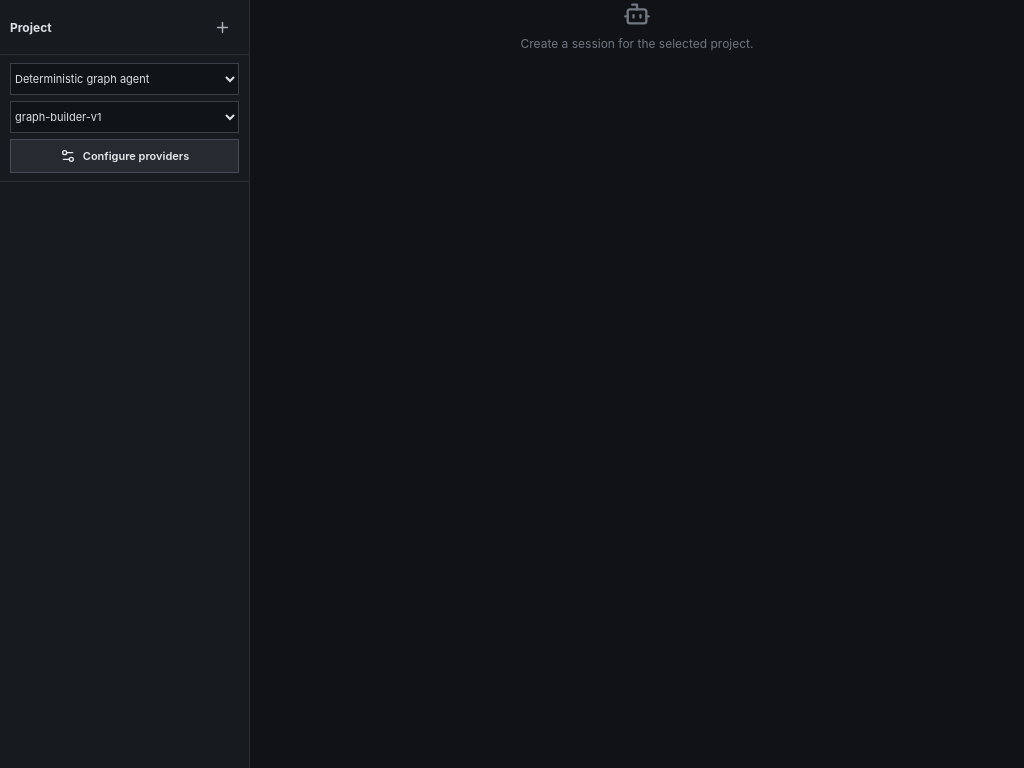
it: renames and deletes a selected session without touching the project
Click the button named "New agent session" at point(222, 27), box 205,10 -> 239,44
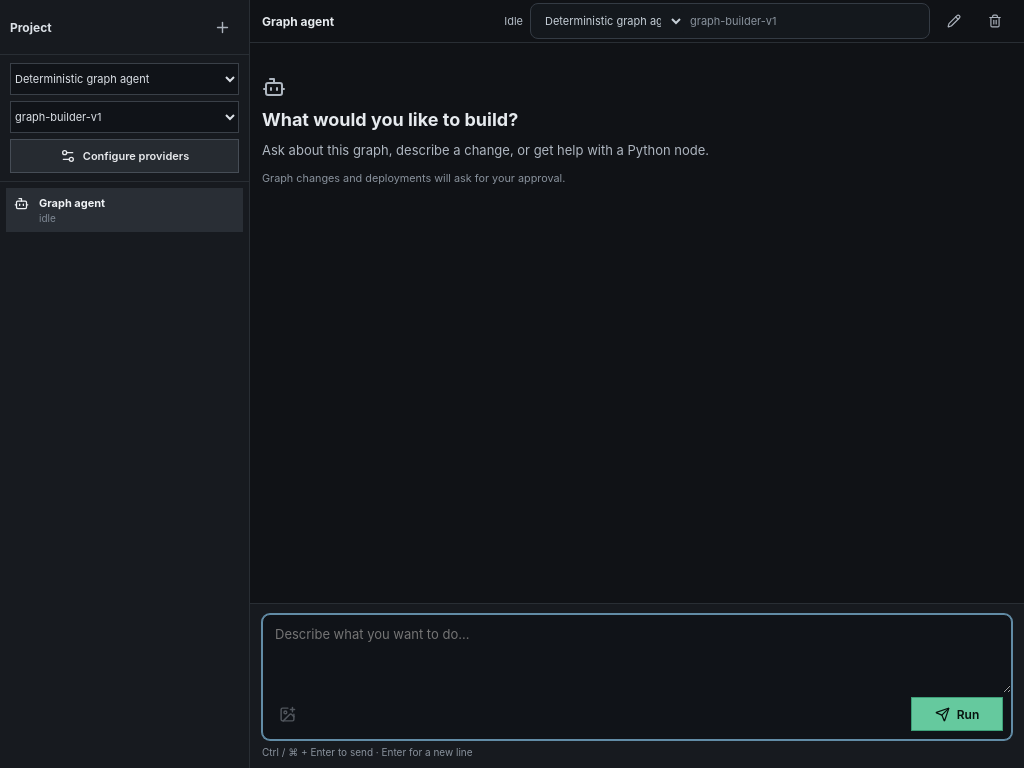
Click the button named "Rename session" at point(954, 21), box 937,4 -> 971,38
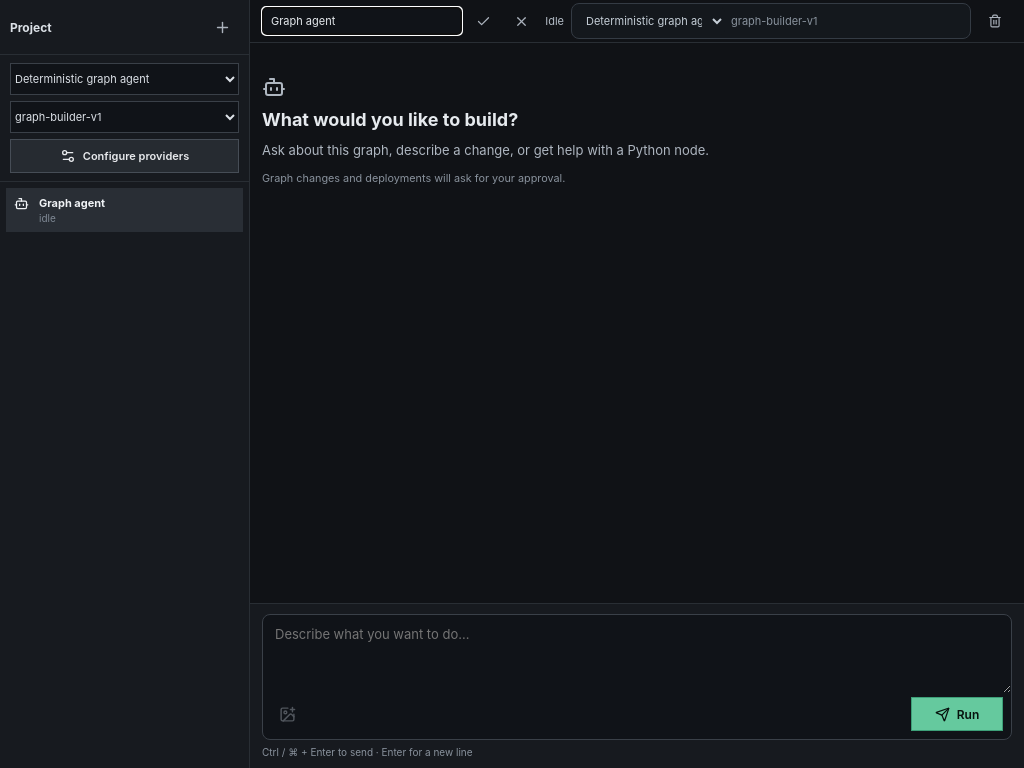
Replace the text in the field named "Session title" with "Cosine graph" at point(362, 21), box 262,7 -> 462,35
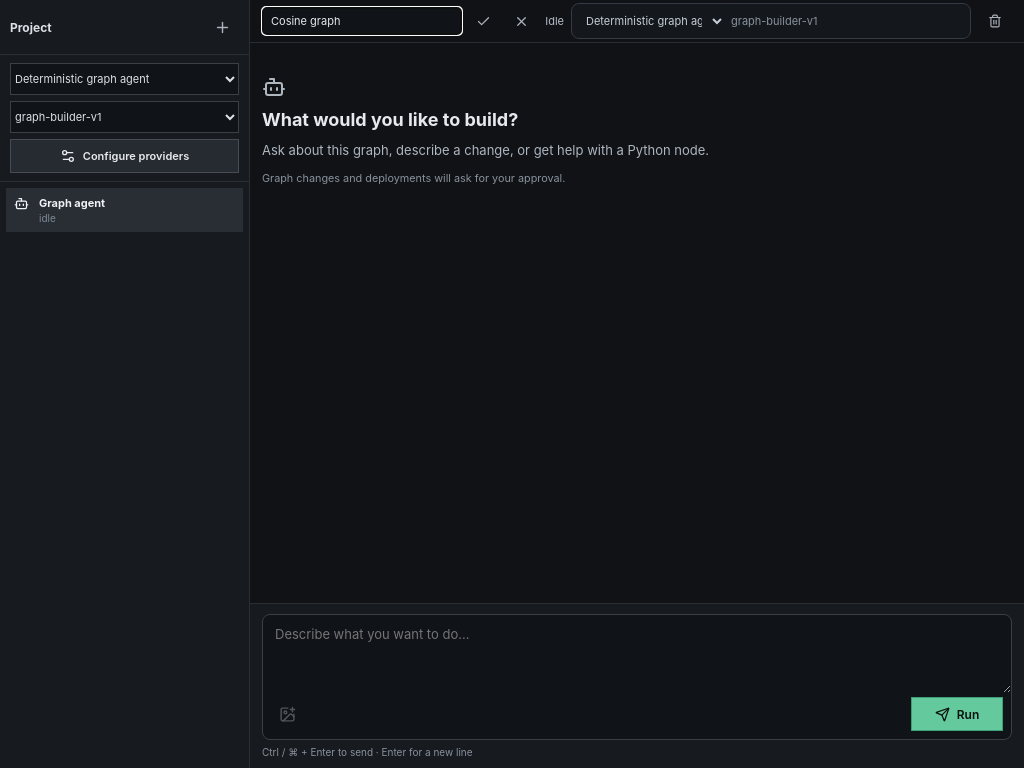
Click the button named "Save session title" at point(483, 21), box 466,4 -> 500,38
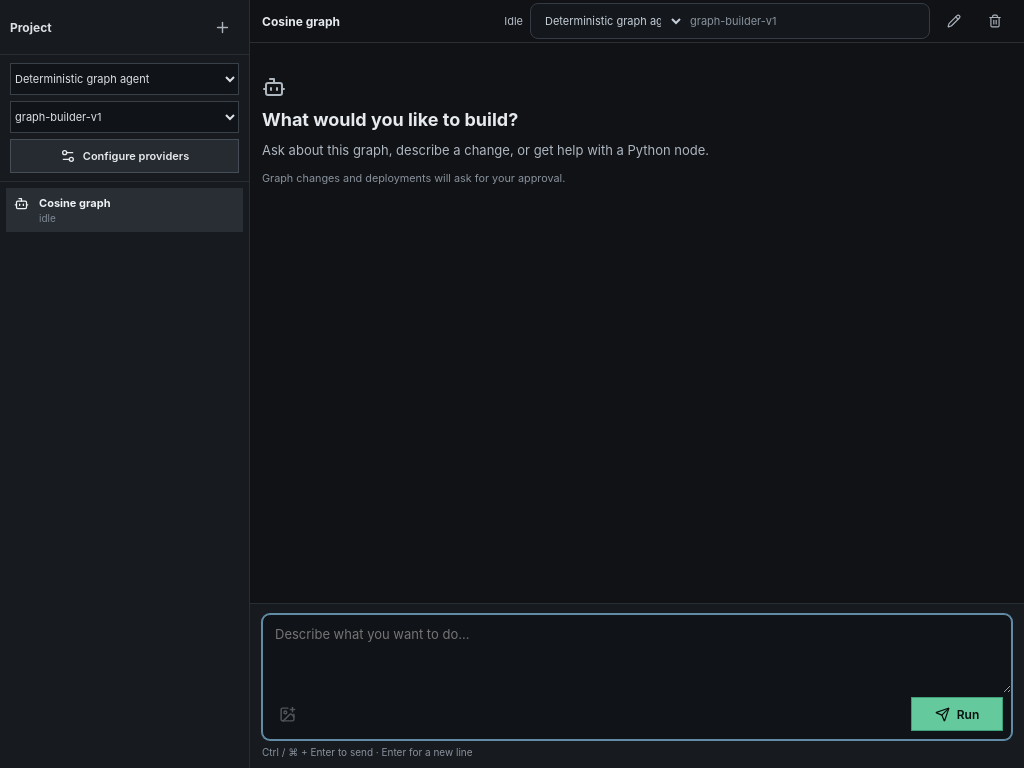
Expected: the text "Cosine graph" in the row of "graph-builder-v1" is shown, 262,14 -> 340,28
Click the button named "Delete session" at point(995, 21), box 978,4 -> 1012,38
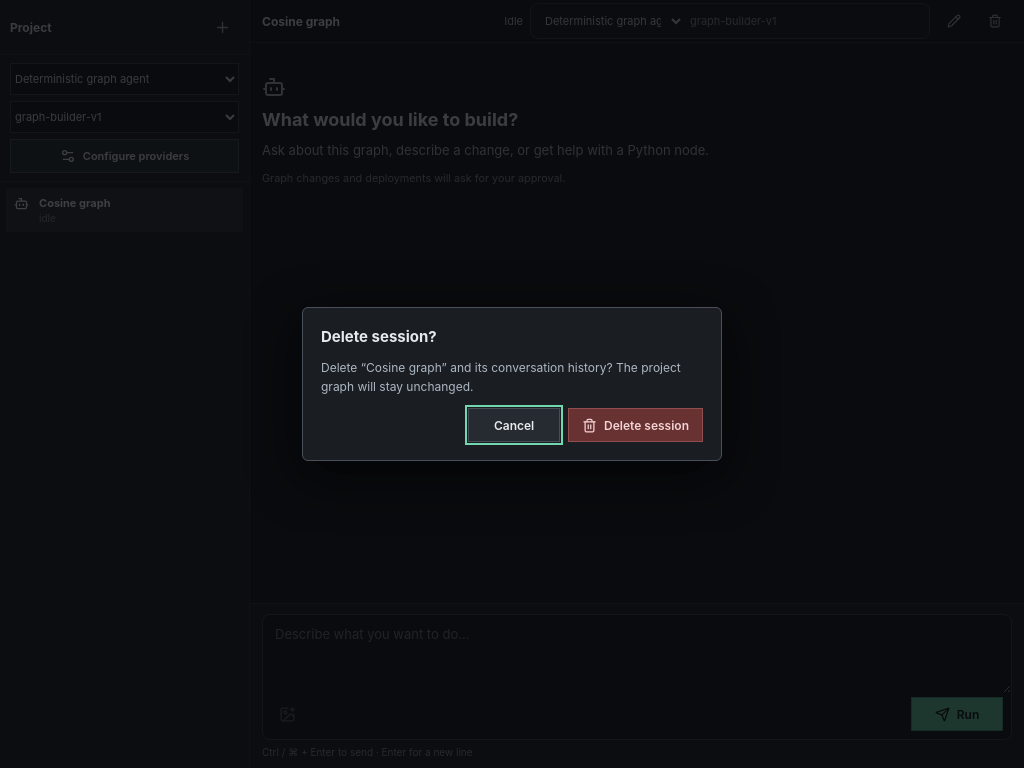
Expected: the dialog named "Delete agent session" shows "The project graph will stay unchanged.", 321,360 -> 681,394
Click the button "Delete session" at point(636, 425), box 568,408 -> 703,442
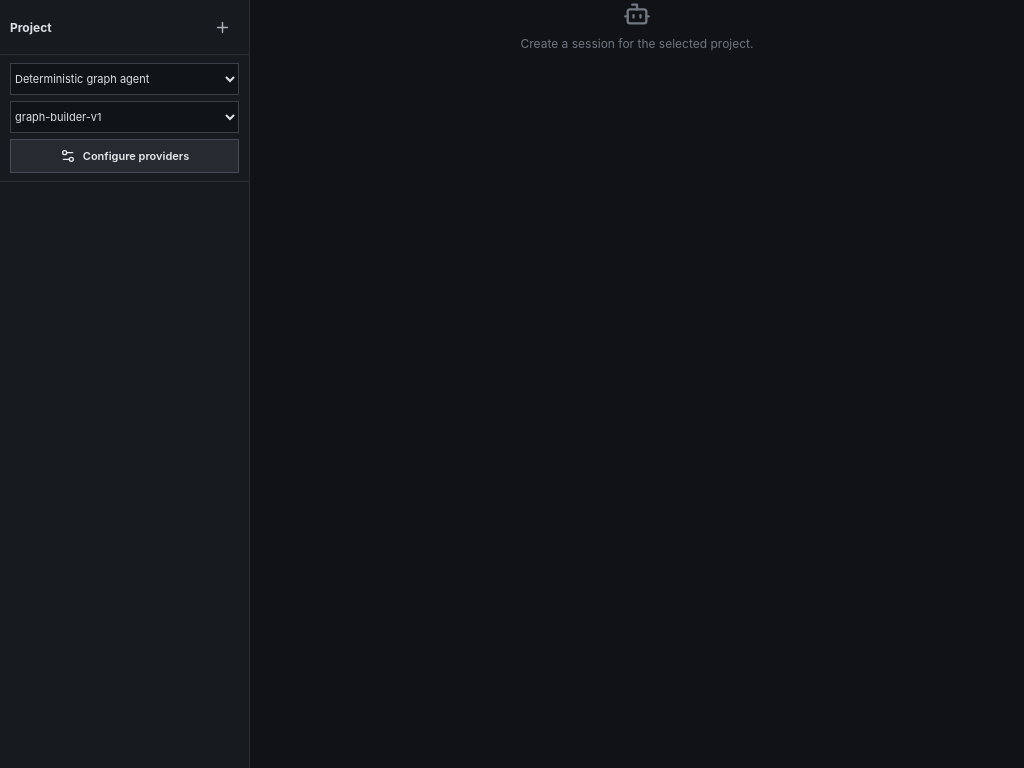
Expected: the text "Create a session for the selected project." is shown, 520,36 -> 754,51
